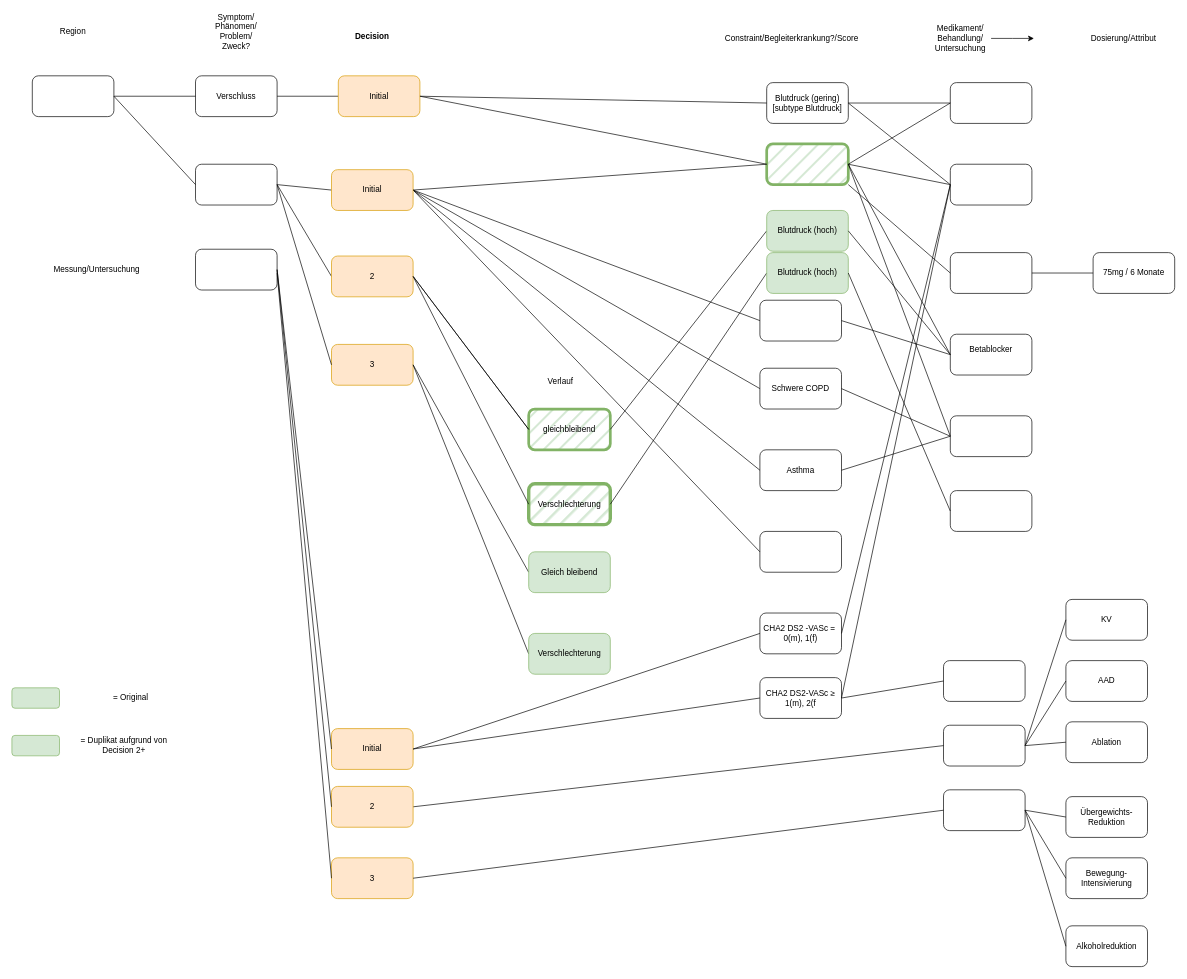
This 1187x979 diagram has some shape labels left out. Here are the shapes that lost their labels. From the top down, the centre of each, then its label:
At point (73, 96): "Vorhofohr".
At point (991, 102): "ASS Anmerkungen: [ ... ]".
At point (236, 184): "Herzfrequenz".
At point (807, 164): "Blutdruck (hoch) [subtype Blutdruck]".
At point (991, 184): "OAK Anmerkungen: [ ... ]".
At point (236, 269): "EKG AF > 30s".
At point (991, 272): "Clopidogrel Anmerkungen: [ ... ]".
At point (800, 320): "HFrEF".
At point (991, 436): "NDCCB".
At point (991, 510): "Digoxin".
At point (800, 551): "Präexzitiertes AF/AFLa".
At point (984, 680): "Schlaganfall-prophylaxe".
At point (984, 745): "Rythmuserhaltung".
At point (984, 810): "Lebensstiländerung".
